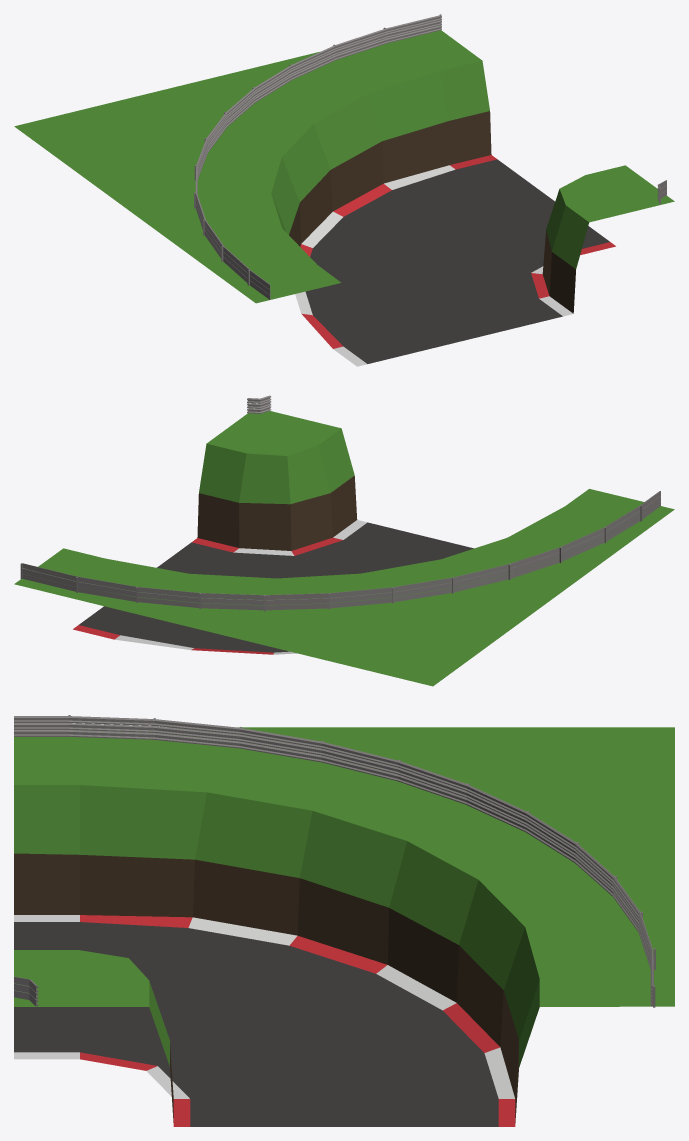
File: tiles-nb-tile-race-track-cliff-curve-nb.glb
The picture shows the model from 3 angles, top to bottom: view 1: azimuth 30°, elevation 25°; view 2: azimuth 150°, elevation 25°; view 3: azimuth 270°, elevation 25°; orthographic projection. The views are drawn at different scales.
Parts seen in each view (by area): view 1: tile-race-track-cliff-curve-nb; view 2: tile-race-track-cliff-curve-nb; view 3: tile-race-track-cliff-curve-nb.
Part boxes in pixels (left/top/right/bottom): tile-race-track-cliff-curve-nb: left=14, top=14, right=674, bottom=366; tile-race-track-cliff-curve-nb: left=14, top=395, right=674, bottom=686; tile-race-track-cliff-curve-nb: left=14, top=715, right=674, bottom=1126.
Bounding box in the file's own units: 30.05 × 7.05 × 30.
